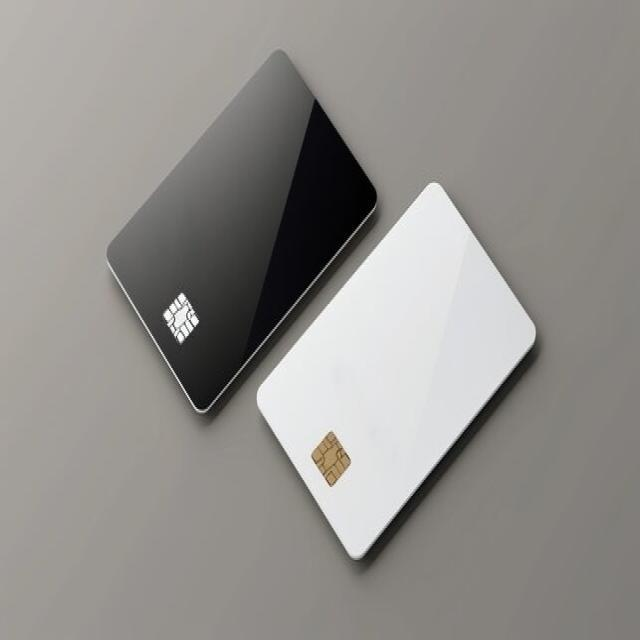payment_card: (254, 180, 537, 561), (103, 34, 378, 414)
